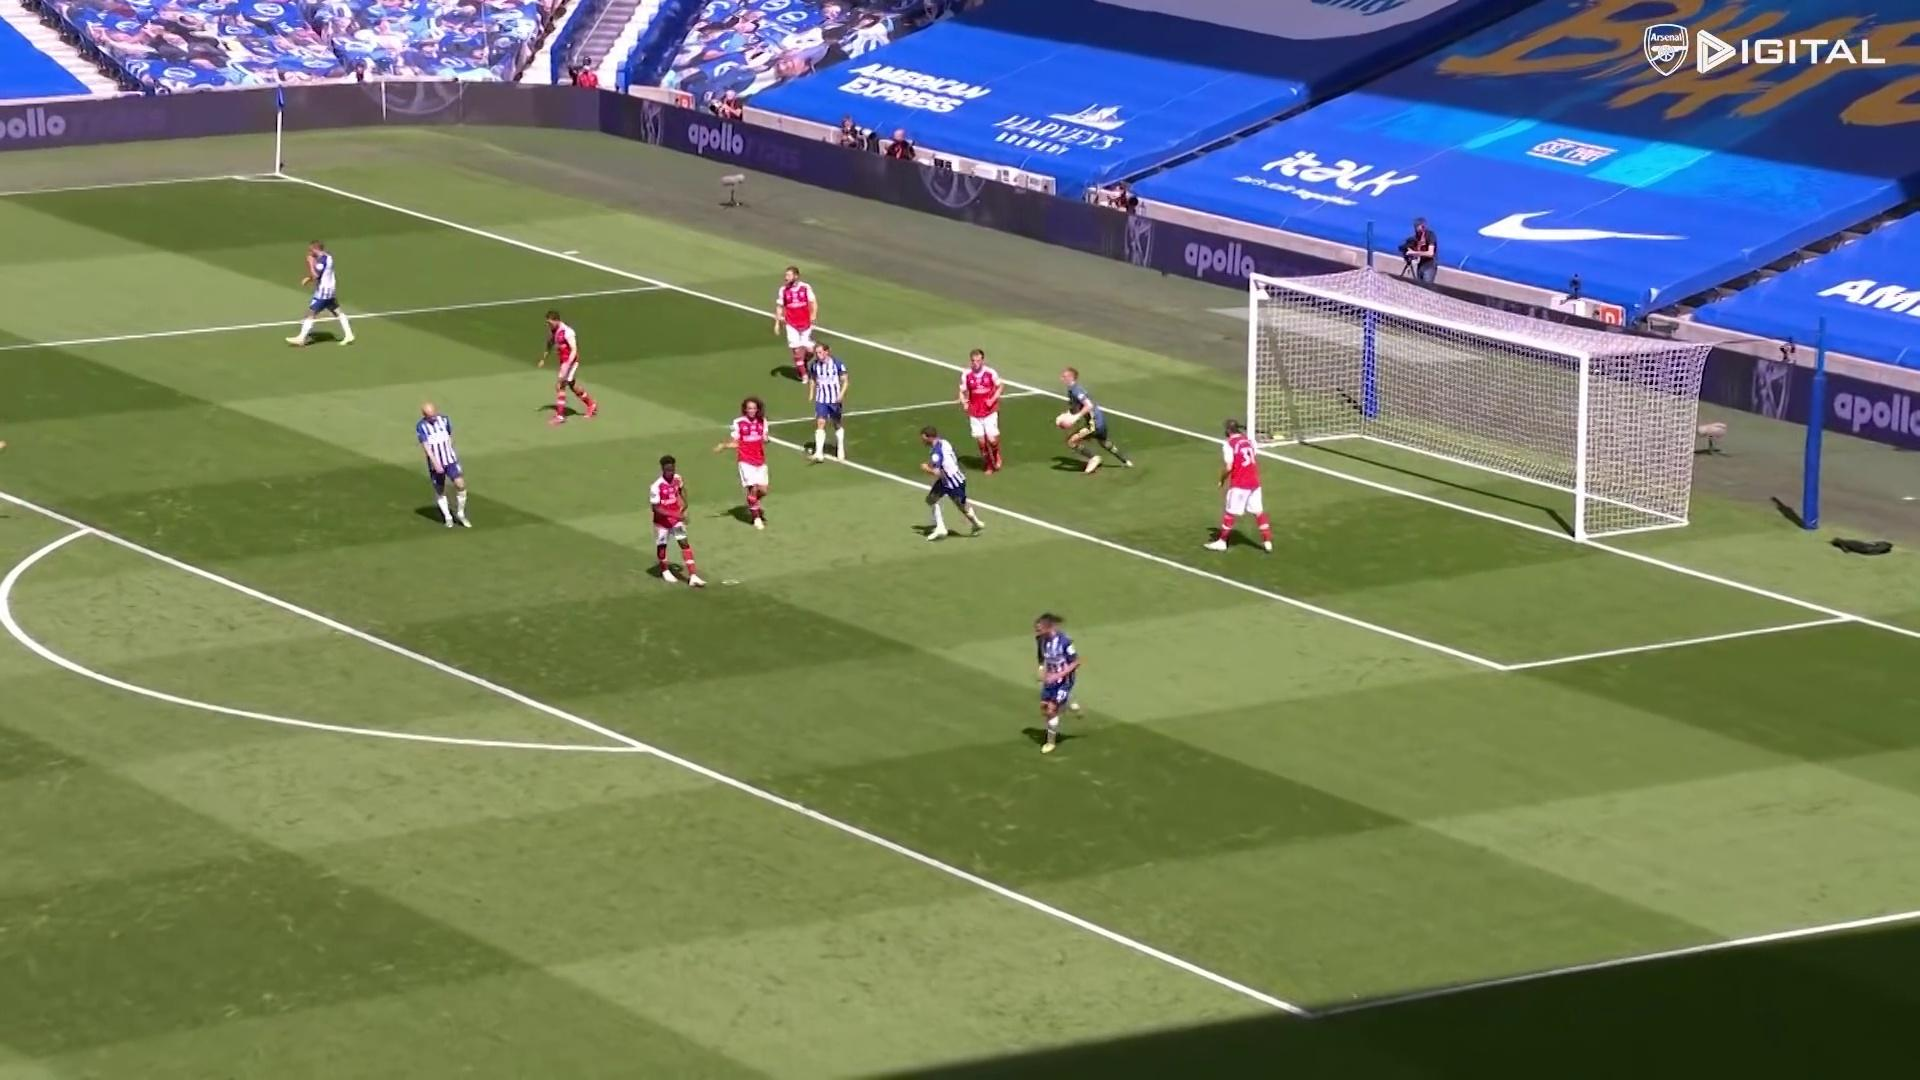ball: (1056, 411, 1075, 430)
